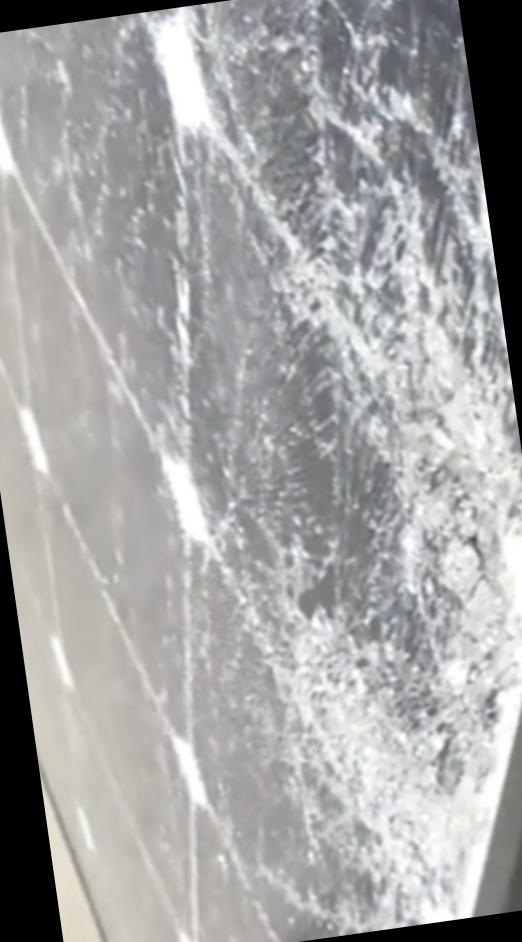Crack: (206, 0, 521, 937)
